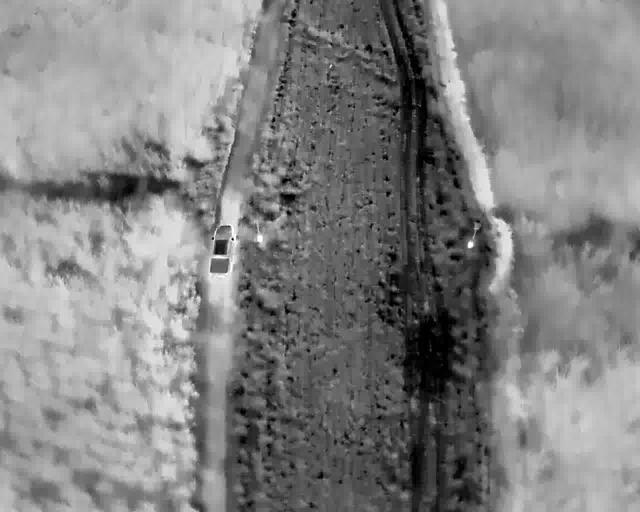car: (250, 58, 271, 97)
